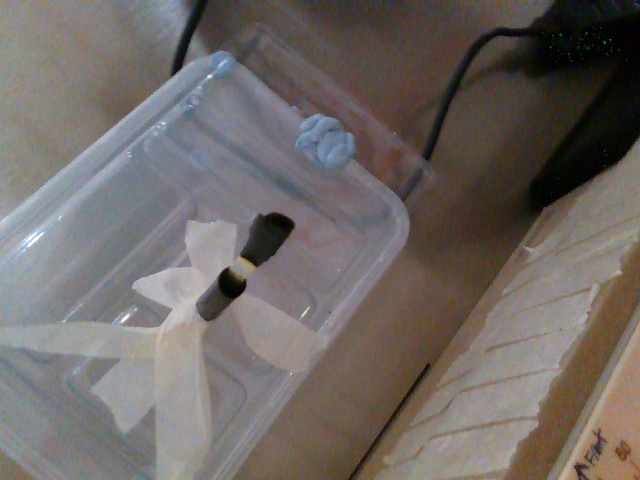test_strip: (228, 210, 295, 278)
